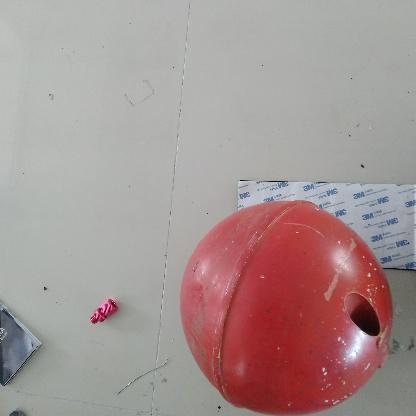red_buoy: (179, 200, 394, 413)
